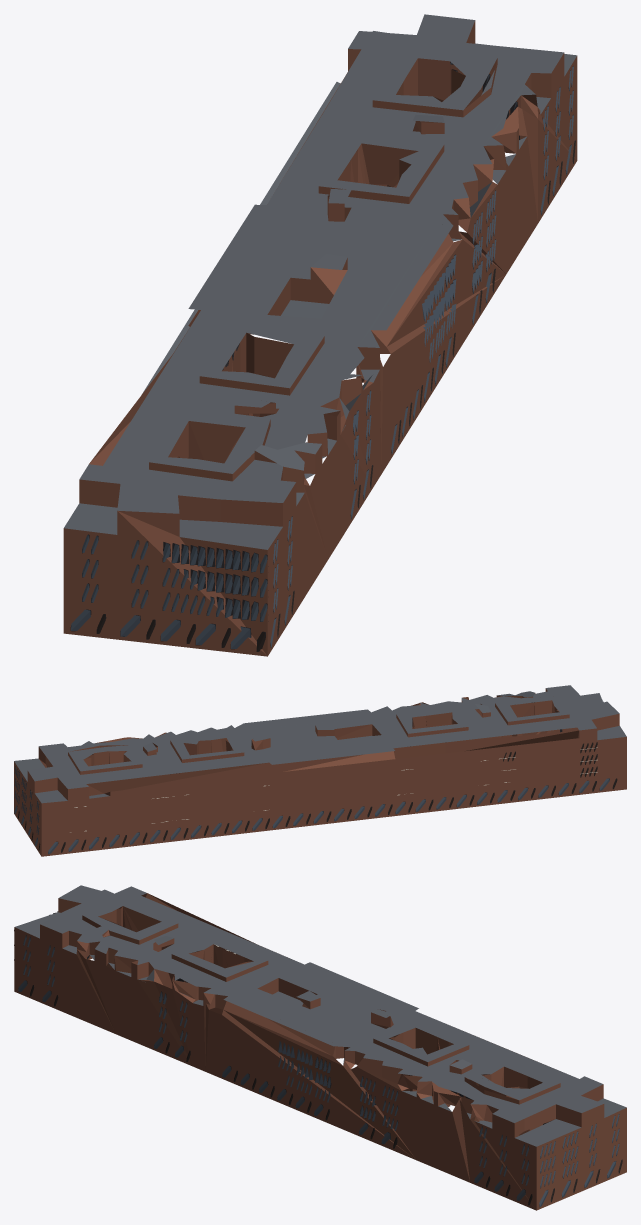
The model's file is blankenstraat-15.lod1.glb.
3 views of the same model, one above another, from view 1: azimuth 30°, elevation 25°; view 2: azimuth 150°, elevation 25°; view 3: azimuth 270°, elevation 25° (orthographic). The views are drawn at different scales.
Visible parts, largest first — view 1: blankenstraat-15; view 2: blankenstraat-15; view 3: blankenstraat-15.
Boxes of the visible parts, x1,y1,x2,y2 form: blankenstraat-15: (63,14,577,656); blankenstraat-15: (14,685,626,856); blankenstraat-15: (14,885,626,1210).
Bounding box in the file's own units: 114 × 18.4 × 115.
